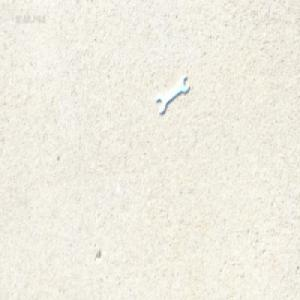Wrench: (156, 74, 189, 113)
